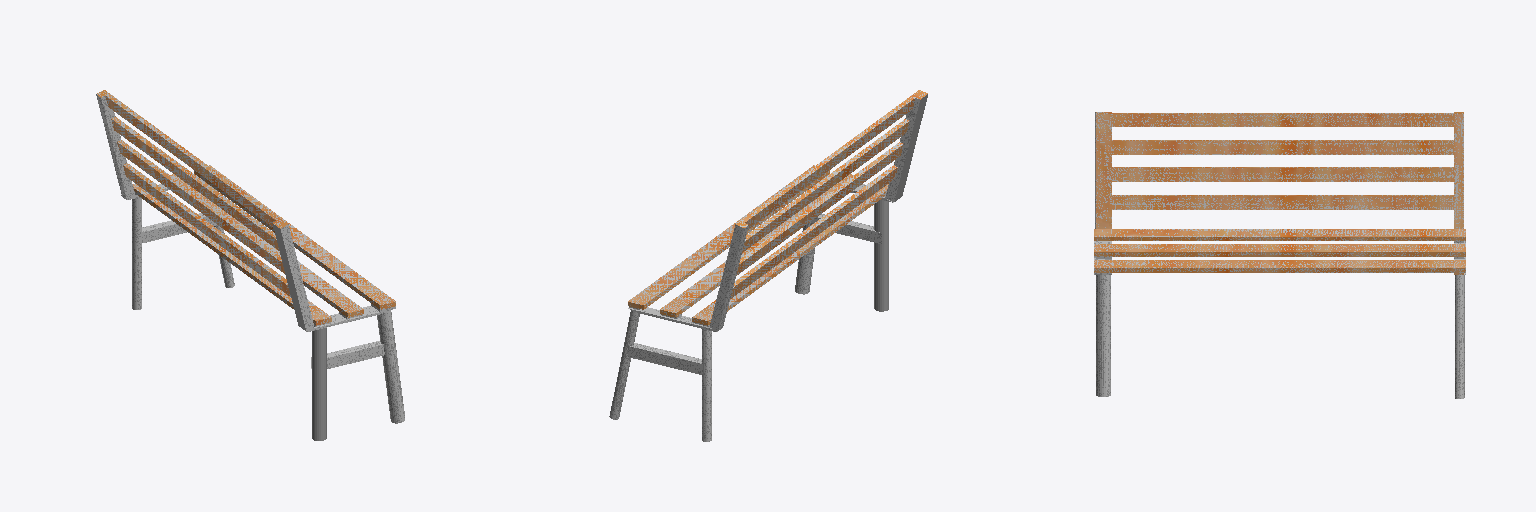
The picture shows the model from 3 angles: view 1: azimuth 30°, elevation 25°; view 2: azimuth 150°, elevation 25°; view 3: azimuth 270°, elevation 25°; orthographic projection.
Parts seen in each view (by area): view 1: mesh1_mesh1-geometry, mesh2_mesh2-geometry; view 2: mesh1_mesh1-geometry, mesh2_mesh2-geometry; view 3: mesh1_mesh1-geometry.
Boxes of the visible parts, <box> form: mesh1_mesh1-geometry: <box>96,90,404,440</box>; mesh2_mesh2-geometry: <box>311,341,384,368</box>; mesh1_mesh1-geometry: <box>609,90,927,441</box>; mesh2_mesh2-geometry: <box>810,214,881,243</box>; mesh1_mesh1-geometry: <box>1094,112,1465,398</box>.
Size of the model in its own units: 0.3304 by 0.5266 by 0.7833.
4 materials, 1 textured.